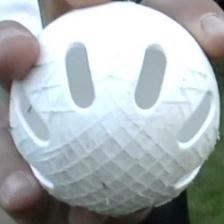Sports-Ball: (11, 5, 222, 213)
